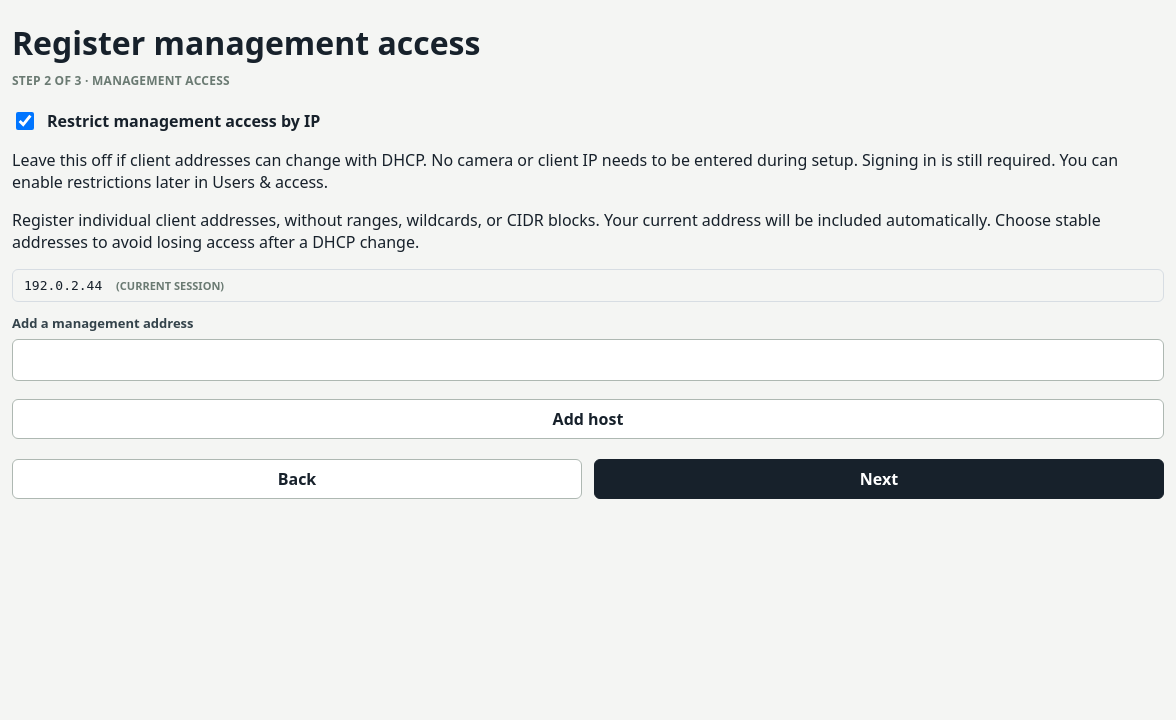
Test: SetupIpStep › rejects an address that is not a valid IPv4 or IPv6 literal
The image size is (1176, 720).
Type "not-an-address" into the field labelled "Add a management address" at x=588, y=360, box 12,339 -> 1164,381
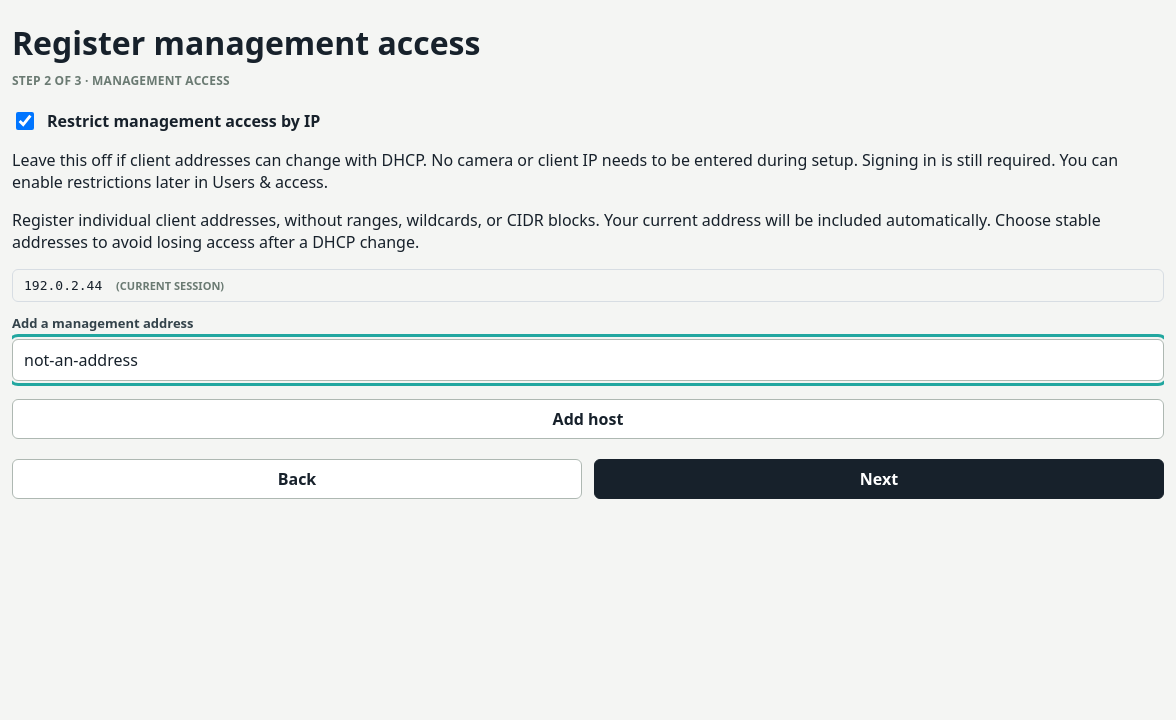
Click the button "Add host" at x=588, y=419, box 12,399 -> 1164,439
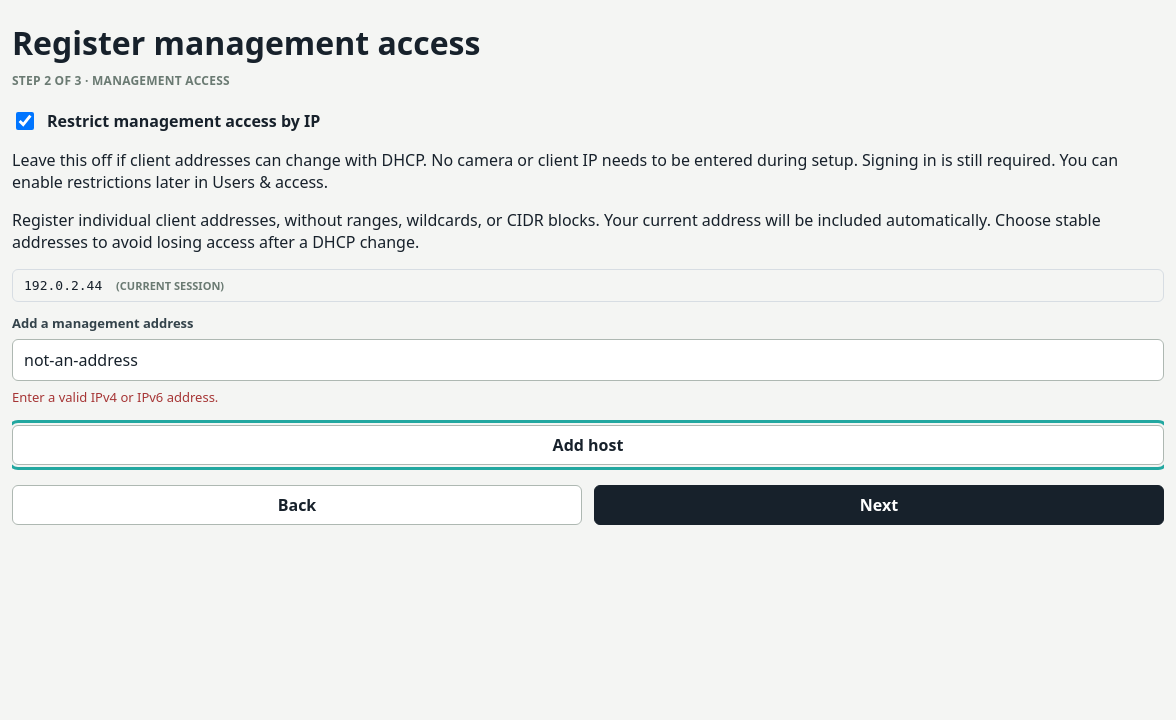
Expected: the text "Enter a valid IPv4 or IPv6 address." is shown, 12,388 -> 218,406
